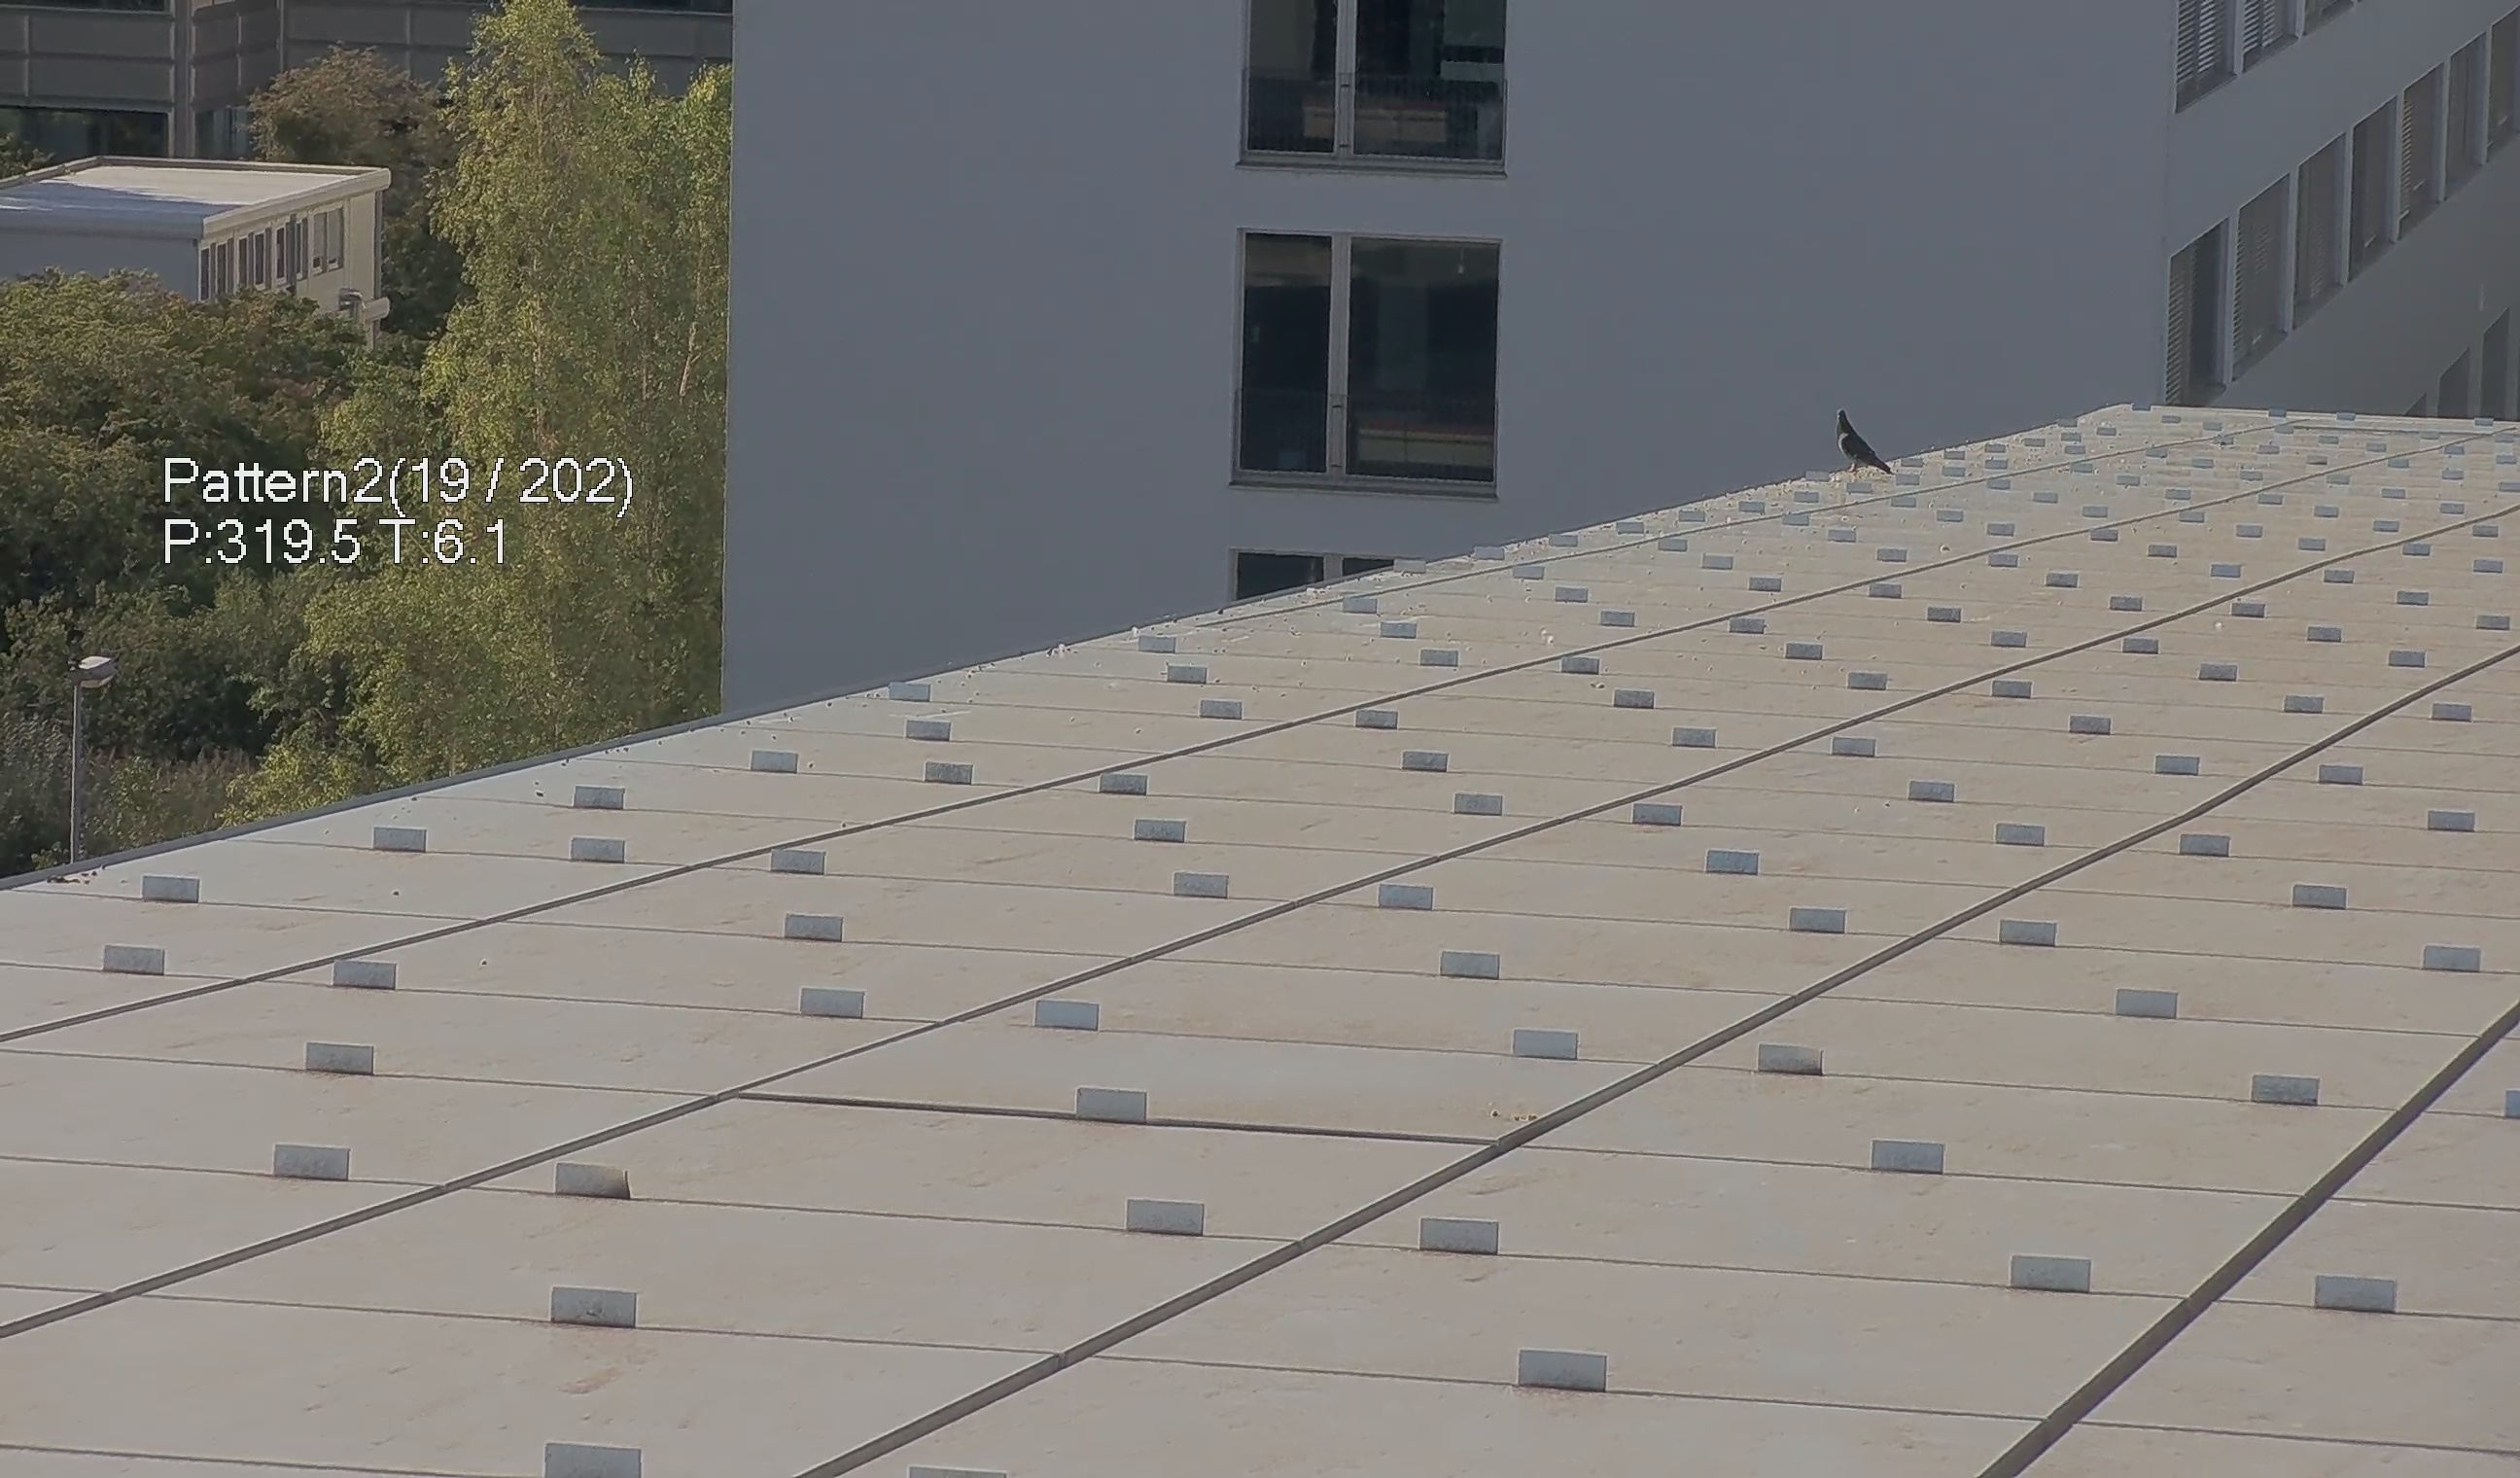Pigeon: (1827, 398, 1905, 487)
